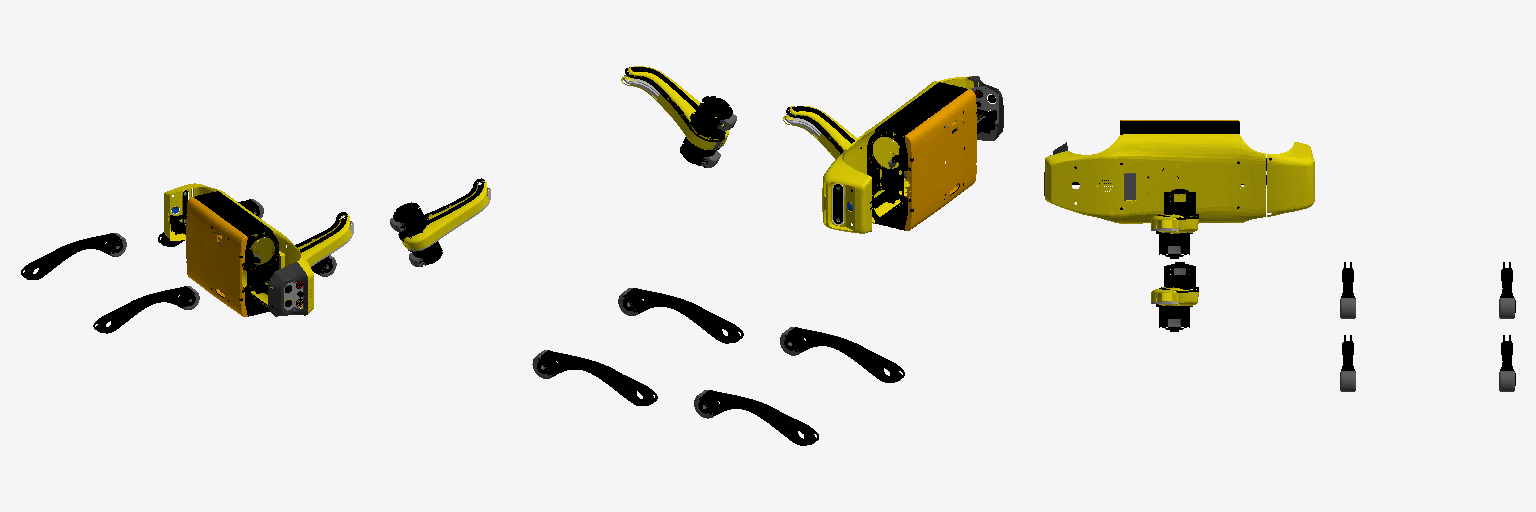
robot.urdf — MiniLiteV3:
<?xml version="1.0" encoding="utf-8"?> 
<robot name="MiniLiteV3"> 
  <link name="TORSO"> 
    <visual> 
      <origin rpy="1.5708 0 1.5708" xyz="-0.05 -0.5 0.08"/> 
      <geometry> 
        <mesh filename="../meshes/TORSO.dae" /> 
      </geometry> 
    </visual> 
    <collision> 
      <geometry> 
        <box size="0.234 0.184 0.08"/> 
      </geometry> 
    </collision> 
  </link> 
 
  <link name="INERTIA"> 
    <inertial> 
      <origin xyz="0.004098 -0.000663 -0.002069" /> 
      <mass value="4.130" /> 
      <inertia ixx="0.016982120" ixy="2.1294E-05" ixz="6.0763E-05" iyy="0.030466501" iyz="1.7968E-05" izz="0.042609956" /> 
    </inertial> 
  </link> 
 
  <joint name="Torso2Inertia" type="fixed"> 
    <parent link="TORSO" /> 
    <child link="INERTIA" /> 
  </joint> 
 
  <link name="FL_HIP"> 
    <inertial> 
      <origin xyz="-0.0047 -0.0091 -0.0018" /> 
      <mass value="0.428" /> 
      <inertia ixx="0.00014538" ixy="8.1579E-07" ixz="-1.264E-05" iyy="0.00024024" iyz="1.3443E-06" izz="0.00013038" /> 
    </inertial> 
    <visual> 
      <origin rpy="1.5708 0 1.5708" xyz="-0.231 -0.55 0.09"/> 
      <geometry> 
        <mesh filename="../meshes/FL_HIP.dae" /> 
      </geometry> 
    </visual> 
  </link> 
 
  <joint name="FL_HipX" type="revolute"> 
    <origin xyz="0.1745 0.062 0" /> 
    <parent link="TORSO" /> 
    <child link="FL_HIP" /> 
    <axis xyz="-1 0 0" /> 
    <limit lower="-0.523" upper="0.523" effort="40" velocity="30" /> 
  </joint> 
 
  <link name="FL_THIGH"> 
    <inertial> 
      <origin xyz="-0.00523 -0.0216 -0.0273" /> 
      <mass value="0.61" /> 
      <inertia ixx="0.001" ixy="-2.5E-06" ixz="-1.12E-04" iyy="0.00116" iyz="3.75E-07" izz="2.68E-04" /> 
    </inertial> 
    <visual> 
      <origin rpy="-2.0 0 1.5708" xyz="0.24 -0.66 0.021"/> 
      <geometry> 
        <mesh filename="../meshes/L_THIGH.dae" /> 
      </geometry> 
    </visual> 
    <collision> 
      <origin xyz="0 0 -0.08"/> 
      <geometry> 
        <box size="0.02 0.02 0.16"/> 
      </geometry> 
    </collision> 
  </link> 
 
  <joint name="FL_HipY" type="revolute"> 
    <origin xyz="0 0.0985 0" /> 
    <parent link="FL_HIP" /> 
    <child link="FL_THIGH" /> 
    <axis xyz="0 -1 0" /> 
    <limit lower="-2.67" upper="0.314" effort="40" velocity="30" /> 
  </joint> 
 
  <link name="FL_SHANK"> 
    <inertial> 
      <origin xyz="0.00585 -8.732E-07 -0.12" /> 
      <mass value="0.115" /> 
      <inertia ixx="6.68E-04" ixy="-1.24E-08" ixz="6.91E-06" iyy="6.86E-04" iyz="5.65E-09" izz="3.155E-05" /> 
    </inertial> 
    <visual> 
      <geometry> 
        <mesh filename="../meshes/SHANK.dae" /> 
      </geometry> 
    </visual> 
    <collision> 
      <origin xyz="0 0 -0.09"/> 
      <geometry> 
        <box size="0.02 0.02 0.18"/> 
      </geometry> 
    </collision> 
  </link> 
 
  <joint name="FL_Knee" type="revolute"> 
    <origin xyz="0 0 -0.20" /> 
    <parent link="FL_THIGH" /> 
    <child link="FL_SHANK" /> 
    <axis xyz="0 -1 0" /> 
    <limit lower="0.524" upper="2.792" effort="65" velocity="20" /> 
  </joint> 
 
  <link name="FL_FOOT"> 
    <inertial> 
      <mass value="1E-12" /> 
      <inertia ixx="1E-12" ixy="0" ixz="0" iyy="1E-12" iyz="0" izz="1E-12" /> 
    </inertial> 
    <collision> 
      <geometry> 
        <sphere radius="0.013"/> 
      </geometry> 
    </collision> 
  </link> 
 
  <joint name="FL_Ankle" type="fixed"> 
    <origin xyz="0 0 -0.21"/> 
    <parent link="FL_SHANK" /> 
    <child link="FL_FOOT" /> 
  </joint> 
 
  <link name="FR_HIP"> 
    <inertial> 
      <origin xyz="-0.0047 0.0091 -0.0018" /> 
      <mass value="0.428" /> 
      <inertia ixx="0.00014538" ixy="-8.1551E-07" ixz="-1.2639E-05" iyy="0.00024024" iyz="-1.3441E-06" izz="0.00013038" /> 
    </inertial> 
    <visual> 
      <origin rpy="1.5708 0 1.5708" xyz="-0.231 -0.46 0.085"/> 
      <geometry> 
        <mesh filename="../meshes/FR_HIP.dae" /> 
      </geometry> 
    </visual> 
  </link> 
 
  <joint name="FR_HipX" type="revolute"> 
    <origin xyz="0.1745 -0.062 0" /> 
    <parent link="TORSO" /> 
    <child link="FR_HIP" /> 
    <axis xyz="-1 0 0" /> 
    <limit lower="-0.523" upper="0.523" effort="40" velocity="30" /> 
  </joint> 
 
  <link name="FR_THIGH"> 
    <inertial> 
      <origin xyz="-0.00523 0.0216 -0.0273" /> 
      <mass value="0.61" /> 
      <inertia ixx="0.001" ixy="2.5E-06" ixz="-1.12E-04" iyy="0.00116" iyz="-3.75E-07" izz="2.68E-04" /> 
    </inertial> 
    <visual> 
      <origin rpy="-2.0 0 1.5708" xyz="0.24 -0.35 0.021"/> 
      <geometry> 
        <mesh filename="../meshes/R_THIGH.dae" /> 
      </geometry> 
    </visual> 
    <collision> 
      <origin xyz="0 0 -0.08"/> 
      <geometry> 
        <box size="0.02 0.02 0.16"/> 
      </geometry> 
    </collision> 
  </link> 
 
  <joint name="FR_HipY" type="revolute"> 
    <origin xyz="0 -0.0985 0" /> 
    <parent link="FR_HIP" /> 
    <child link="FR_THIGH" /> 
    <axis xyz="0 -1 0" /> 
    <limit lower="-2.67" upper="0.314" effort="40" velocity="30" /> 
  </joint> 
 
  <link name="FR_SHANK"> 
    <inertial> 
      <origin xyz="0.00585 -8.732E-07 -0.12" /> 
      <mass value="0.115" /> 
      <inertia ixx="6.68E-04" ixy="-1.24E-08" ixz="6.91E-06" iyy="6.86E-04" iyz="5.65E-09" izz="3.155E-05" /> 
    </inertial> 
    <visual> 
      <geometry> 
        <mesh filename="../meshes/SHANK.dae" /> 
      </geometry> 
    </visual> 
    <collision> 
      <origin xyz="0 0 -0.09"/> 
      <geometry> 
        <box size="0.02 0.02 0.18"/> 
      </geometry> 
    </collision> 
  </link> 
 
  <joint name="FR_Knee" type="revolute"> 
    <origin xyz="0 0 -0.20" /> 
    <parent link="FR_THIGH" /> 
    <child link="FR_SHANK" /> 
    <axis xyz="0 -1 0" /> 
    <limit lower="0.524" upper="2.792" effort="65" velocity="20" /> 
  </joint> 
 
  <link name="FR_FOOT"> 
    <inertial> 
      <mass value="1E-12" /> 
      <inertia ixx="1E-12" ixy="0" ixz="0" iyy="1E-12" iyz="0" izz="1E-12" /> 
    </inertial> 
    <collision> 
      <geometry> 
        <sphere radius="0.013"/> 
      </geometry> 
    </collision> 
  </link> 
 
  <joint name="FR_Ankle" type="fixed"> 
    <origin xyz="0 0 -0.21"/> 
    <parent link="FR_SHANK" /> 
    <child link="FR_FOOT" /> 
  </joint> 
 
  <link name="HL_HIP"> 
    <inertial> 
      <origin xyz="0.0047 -0.0091 -0.0018" /> 
      <mass value="0.428" /> 
      <inertia ixx="0.00014538" ixy="-8.1585E-07" ixz="1.2639E-05" iyy="0.00024024" iyz="1.3444E-06" izz="0.00013038" /> 
    </inertial> 
    <visual> 
      <origin rpy="1.5708 0 1.5708" xyz="0.12 -0.55 0.09"/> 
      <geometry> 
        <mesh filename="../meshes/HL_HIP.dae" /> 
      </geometry> 
    </visual> 
  </link> 
 
  <joint name="HL_HipX" type="revolute"> 
    <origin xyz="-0.1745 0.062 0" /> 
    <parent link="TORSO" /> 
    <child link="HL_HIP" /> 
    <axis xyz="-1 0 0" /> 
    <limit lower="-0.523" upper="0.523" effort="40" velocity="30" /> 
  </joint> 
 
  <link name="HL_THIGH"> 
    <inertial> 
      <origin xyz="-0.00523 -0.0216 -0.0273" /> 
      <mass value="0.61" /> 
      <inertia ixx="0.001" ixy="-2.5E-06" ixz="-1.12E-04" iyy="0.00116" iyz="3.75E-07" izz="2.68E-04" /> 
    </inertial> 
    <visual> 
      <origin rpy="-2.0 0 1.5708" xyz="0.24 -0.66 0.021"/> 
      <geometry> 
        <mesh filename="../meshes/L_THIGH.dae" /> 
      </geometry> 
    </visual> 
    <collision> 
      <origin xyz="0 0 -0.08"/> 
      <geometry> 
        <box size="0.02 0.02 0.16"/> 
      </geometry> 
    </collision> 
  </link> 
 
  <joint name="HL_HipY" type="revolute"> 
    <origin xyz="0 0.0985 0" /> 
    <parent link="HL_HIP" /> 
    <child link="HL_THIGH" /> 
    <axis xyz="0 -1 0" /> 
    <limit lower="-2.67" upper="0.314" effort="40" velocity="30" /> 
  </joint> 
 
  <link name="HL_SHANK"> 
    <inertial> 
      <origin xyz="0.00585 -8.732E-07 -0.12" /> 
      <mass value="0.115" /> 
      <inertia ixx="6.68E-04" ixy="-1.24E-08" ixz="6.91E-06" iyy="6.86E-04" iyz="5.65E-09" izz="3.155E-05" /> 
    </inertial> 
    <visual> 
      <geometry> 
        <mesh filename="../meshes/SHANK.dae" /> 
      </geometry> 
    </visual> 
    <collision> 
      <origin xyz="0 0 -0.09"/> 
      <geometry> 
        <box size="0.02 0.02 0.18"/> 
      </geometry> 
    </collision> 
  </link> 
 
  <joint name="HL_Knee" type="revolute"> 
    <origin xyz="0 0 -0.20" /> 
    <parent link="HL_THIGH" /> 
    <child link="HL_SHANK" /> 
    <axis xyz="0 -1 0" /> 
    <limit lower="0.524" upper="2.792" effort="65" velocity="20" /> 
  </joint> 
 
  <link name="HL_FOOT"> 
    <inertial> 
      <mass value="1E-12" /> 
      <inertia ixx="1E-12" ixy="0" ixz="0" iyy="1E-12" iyz="0" izz="1E-12" /> 
    </inertial> 
    <collision> 
      <geometry> 
        <sphere radius="0.013"/> 
      </geometry> 
    </collision> 
  </link> 
 
  <joint name="HL_Ankle" type="fixed"> 
    <origin xyz="0 0 -0.21"/> 
    <parent link="HL_SHANK" /> 
    <child link="HL_FOOT" /> 
  </joint> 
 
  <link name="HR_HIP"> 
    <inertial> 
      <origin xyz="0.0047 0.0091 -0.0018" /> 
      <mass value="0.428" /> 
      <inertia ixx="0.00014538" ixy="8.1545E-07" ixz="1.2639E-05" iyy="0.00024024" iyz="-1.344E-06" izz="0.00013038" /> 
    </inertial> 
    <visual> 
      <origin rpy="1.5708 0 1.5708" xyz="0.12 -0.46 0.09"/> 
      <geometry> 
        <mesh filename="../meshes/HR_HIP.dae" /> 
      </geometry> 
    </visual> 
  </link> 
 
  <joint name="HR_HipX" type="revolute"> 
    <origin xyz="-0.1745 -0.062 0" /> 
    <parent link="TORSO" /> 
    <child link="HR_HIP" /> 
    <axis xyz="-1 0 0" /> 
    <limit lower="-0.523" upper="0.523" effort="40" velocity="30" /> 
  </joint> 
 
  <link name="HR_THIGH"> 
    <inertial> 
      <origin xyz="-0.00523 0.0216 -0.0273" /> 
      <mass value="0.61" /> 
      <inertia ixx="0.001" ixy="2.5E-06" ixz="-1.12E-04" iyy="0.00116" iyz="-3.75E-07" izz="2.68E-04" /> 
    </inertial> 
    <visual> 
      <origin rpy="-2.0 0 1.5708" xyz="0.24 -0.35 0.021"/> 
      <geometry> 
        <mesh filename="../meshes/R_THIGH.dae" /> 
      </geometry> 
    </visual> 
    <collision> 
      <origin xyz="0 0 -0.08"/> 
      <geometry> 
        <box size="0.02 0.02 0.16"/> 
      </geometry> 
    </collision> 
  </link> 
 
  <joint name="HR_HipY" type="revolute"> 
    <origin xyz="0 -0.0985 0" /> 
    <parent link="HR_HIP" /> 
    <child link="HR_THIGH" /> 
    <axis xyz="0 -1 0" /> 
    <limit lower="-2.67" upper="0.314" effort="40" velocity="30" /> 
  </joint> 
 
  <link name="HR_SHANK"> 
    <inertial> 
      <origin xyz="0.00585 -8.732E-07 -0.12" /> 
      <mass value="0.115" /> 
      <inertia ixx="6.68E-04" ixy="-1.24E-08" ixz="6.91E-06" iyy="6.86E-04" iyz="5.65E-09" izz="3.155E-05" /> 
    </inertial> 
    <visual> 
      <geometry> 
        <mesh filename="../meshes/SHANK.dae" /> 
      </geometry> 
    </visual> 
    <collision> 
      <origin xyz="0 0 -0.09"/> 
      <geometry> 
        <box size="0.02 0.02 0.18"/> 
      </geometry> 
    </collision> 
  </link> 
 
  <joint name="HR_Knee" type="revolute"> 
    <origin xyz="0 0 -0.20" /> 
    <parent link="HR_THIGH" /> 
    <child link="HR_SHANK" /> 
    <axis xyz="0 -1 0" /> 
    <limit lower="0.524" upper="2.792" effort="65" velocity="20" /> 
  </joint> 
 
  <link name="HR_FOOT"> 
    <inertial> 
      <mass value="1E-12" /> 
      <inertia ixx="1E-12" ixy="0" ixz="0" iyy="1E-12" iyz="0" izz="1E-12" /> 
    </inertial> 
    <collision> 
      <geometry> 
        <sphere radius="0.013"/> 
      </geometry> 
    </collision> 
  </link> 
 
  <joint name="HR_Ankle" type="fixed"> 
    <origin xyz="0 0 -0.21"/> 
    <parent link="HR_SHANK" /> 
    <child link="HR_FOOT" /> 
  </joint> 
 
</robot> 

--- Facts derived from the render (not from the file) ---
3 views of the same robot in one strip: view 1: azimuth 30°, elevation 25°; view 2: azimuth 150°, elevation 25°; view 3: azimuth 270°, elevation 25° (orthographic).
Robot: MiniLiteV3 — 18 links, 17 joints (12 revolute, 5 fixed); root link TORSO; default pose: joints at zero except 4 at the middle of their limits (FL_Knee = 1.66, FR_Knee = 1.66, HL_Knee = 1.66, HR_Knee = 1.66).
Visible links, largest first — view 1: TORSO, FR_THIGH, HR_SHANK, HL_SHANK, FL_THIGH, HR_THIGH; view 2: TORSO, FL_THIGH, FL_SHANK, HR_SHANK, HL_SHANK, FR_SHANK, FR_THIGH, HR_THIGH, HL_THIGH; view 3: TORSO, FL_THIGH, HL_THIGH, FR_THIGH, HR_THIGH, FL_SHANK, HL_SHANK, HR_SHANK, FR_SHANK.
Link boxes in pixels (<box>): TORSO: <box>164,183,313,316</box>; FR_THIGH: <box>402,181,490,266</box>; HR_SHANK: <box>93,286,199,333</box>; HL_SHANK: <box>21,233,126,279</box>; FL_THIGH: <box>390,178,487,245</box>; HR_THIGH: <box>286,215,353,286</box>; TORSO: <box>822,76,1003,233</box>; FL_THIGH: <box>621,67,736,149</box>; FL_SHANK: <box>532,350,657,405</box>; HR_SHANK: <box>780,327,904,382</box>; HL_SHANK: <box>694,390,818,445</box>; FR_SHANK: <box>618,288,743,343</box>; FR_THIGH: <box>623,66,728,167</box>; HR_THIGH: <box>785,106,857,152</box>; HL_THIGH: <box>783,107,896,168</box>; TORSO: <box>1044,120,1314,223</box>; FL_THIGH: <box>1157,262,1198,305</box>; HL_THIGH: <box>1157,189,1198,233</box>; FR_THIGH: <box>1151,287,1192,331</box>; HR_THIGH: <box>1151,214,1192,258</box>; FL_SHANK: <box>1499,335,1515,391</box>; HL_SHANK: <box>1499,262,1515,318</box>; HR_SHANK: <box>1340,262,1355,318</box>; FR_SHANK: <box>1340,335,1355,391</box>.
Bounding box of the posed robot: 0.8044 × 0.9505 × 0.3969 m (x, y, z).
Meshes: 8 distinct files referenced, 13 mesh visuals loaded (8 Collada DAE).